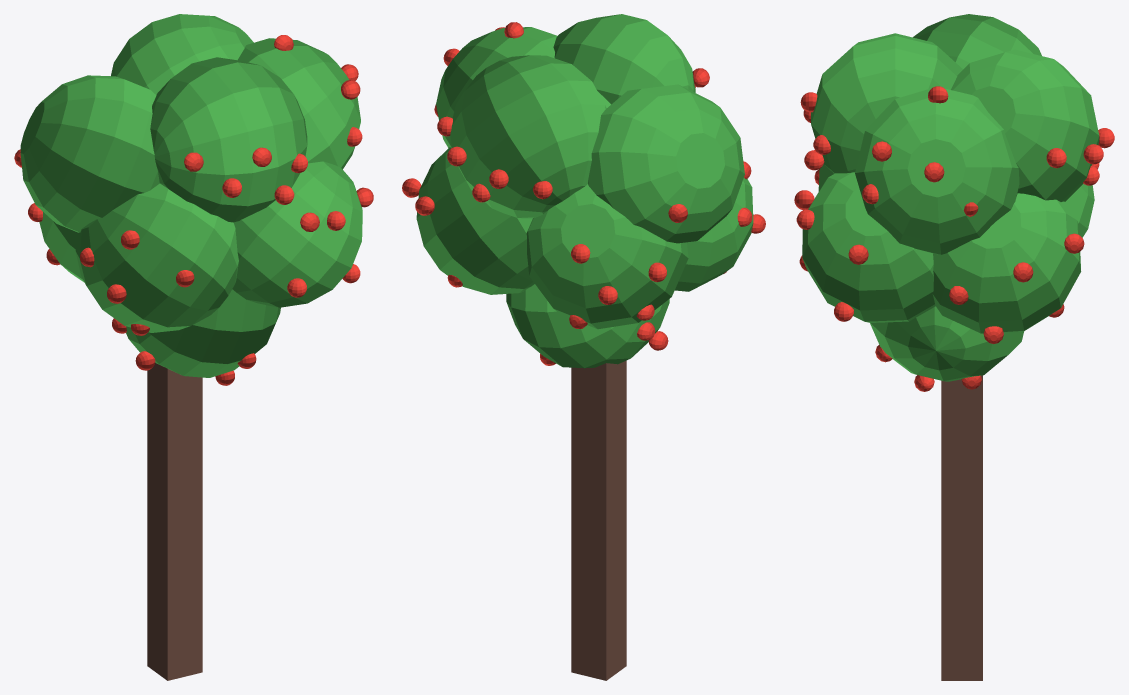
3 renders of one model, left to right at view 1: azimuth 30°, elevation 25°; view 2: azimuth 150°, elevation 25°; view 3: azimuth 270°, elevation 25°, orthographic. The views are drawn at different scales.
Parts seen in each view (by area): view 1: default; view 2: default; view 3: default.
Part boxes in pixels (x1,y1,x2,y2): default: (14, 14, 373, 680); default: (402, 14, 765, 680); default: (794, 14, 1114, 680).
Bounding box in the file's own units: 4.81 × 9.31 × 4.23.
